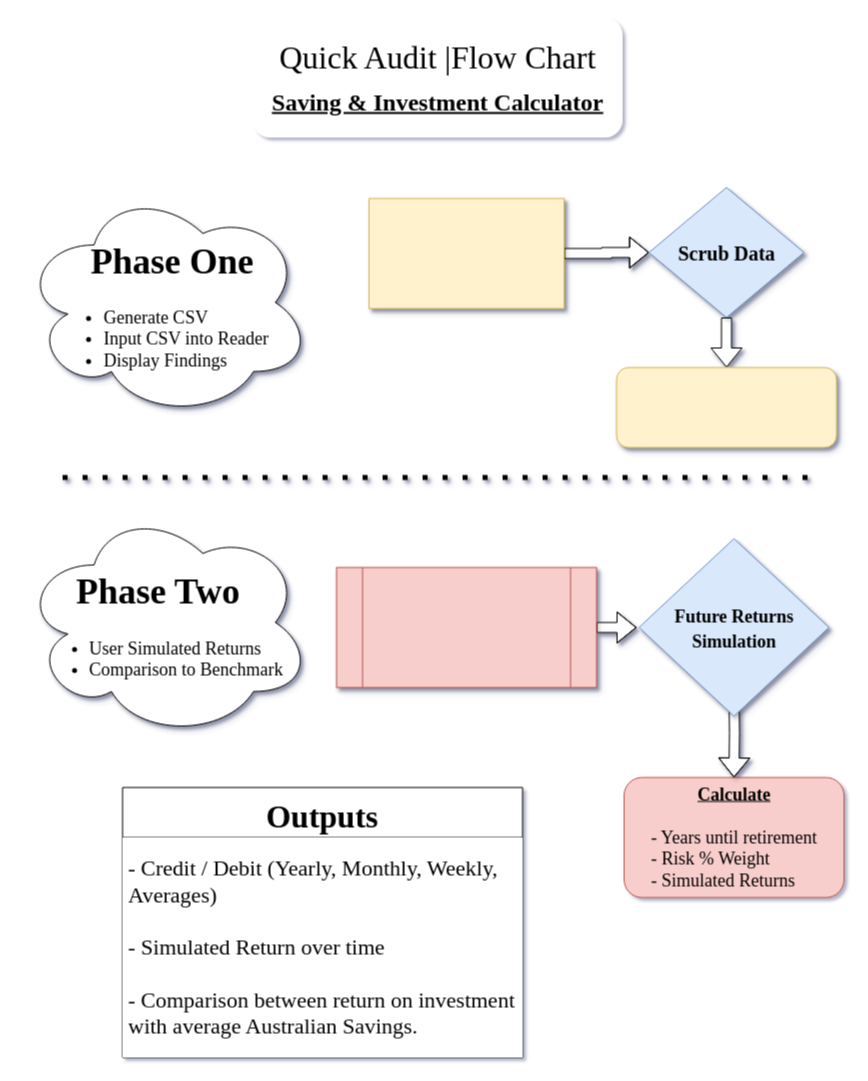
The diagram is 868 pixels wide and 1081 high, and some of its shapes have lost their labels. The centre of each missing label's shape, as x and y in pixels:
"Bank CSV From User Input or Fake CSV Generator" belongs at [467,255].
"Categorize -Cashflow (W,M,Y)" belongs at [727,408].
"Monte Carlo Forecasting Results based on Age and Time until retirement" belongs at [467,628].
